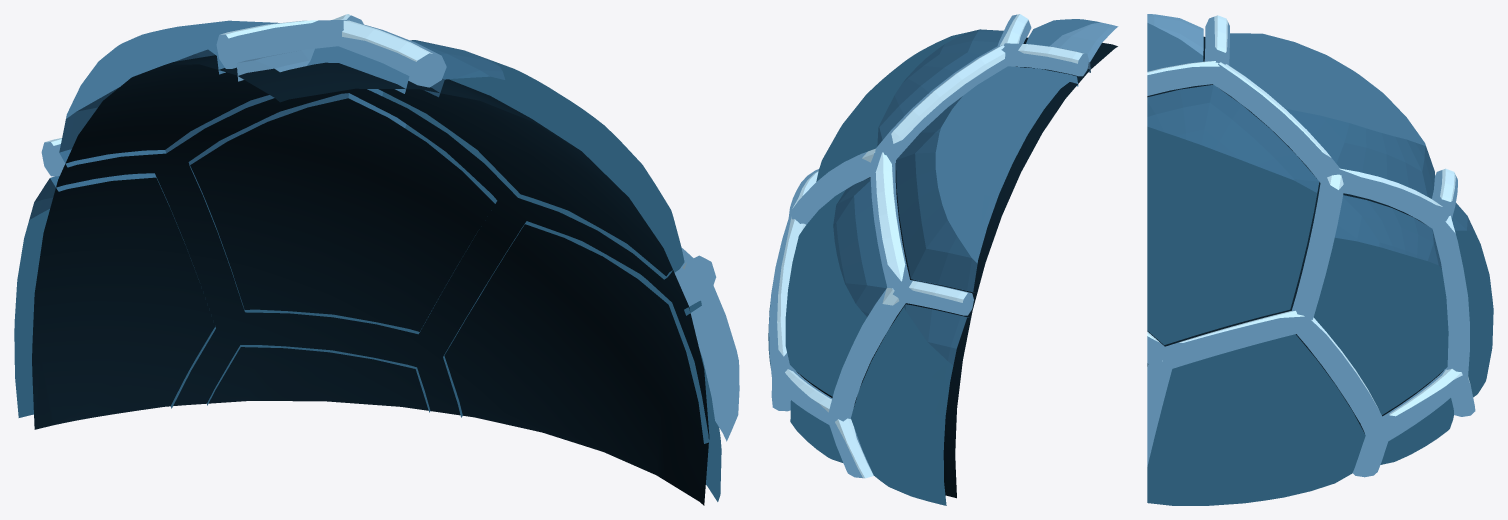
File: fruit_geoball_tr.glb
3 views of the same model, side by side, from view 1: azimuth 30°, elevation 25°; view 2: azimuth 150°, elevation 25°; view 3: azimuth 270°, elevation 25° (orthographic). The views are drawn at different scales.
Visible parts, largest first — view 1: fruit_geoball_tr; view 2: fruit_geoball_tr; view 3: fruit_geoball_tr.
Part boxes in pixels (x1=…): fruit_geoball_tr: x1=14, y1=14, x2=739, y2=505; fruit_geoball_tr: x1=768, y1=14, x2=1118, y2=505; fruit_geoball_tr: x1=1147, y1=14, x2=1493, y2=505.
Bounding box in the file's own units: 24.68 × 27.58 × 24.73.
